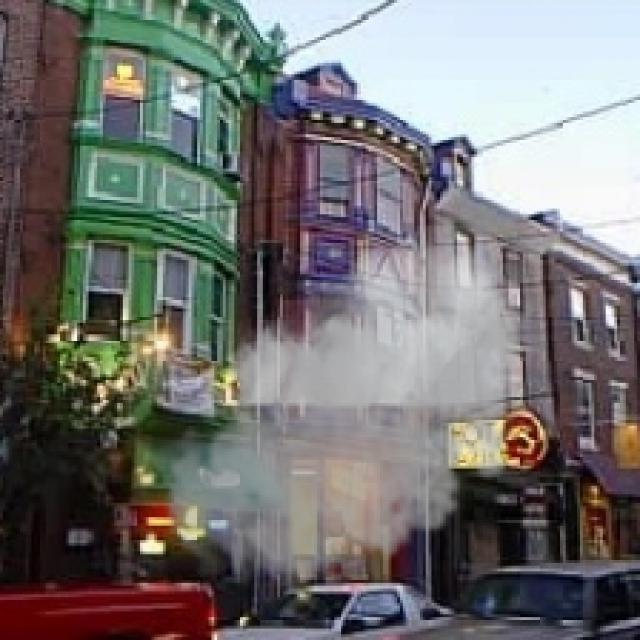smoke: (157, 225, 534, 606)
